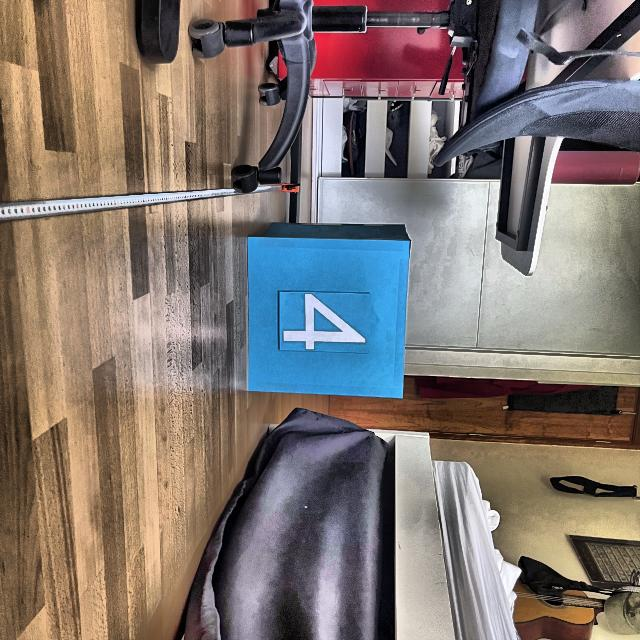blue box: (244, 214, 410, 400)
four: (280, 292, 368, 352)
